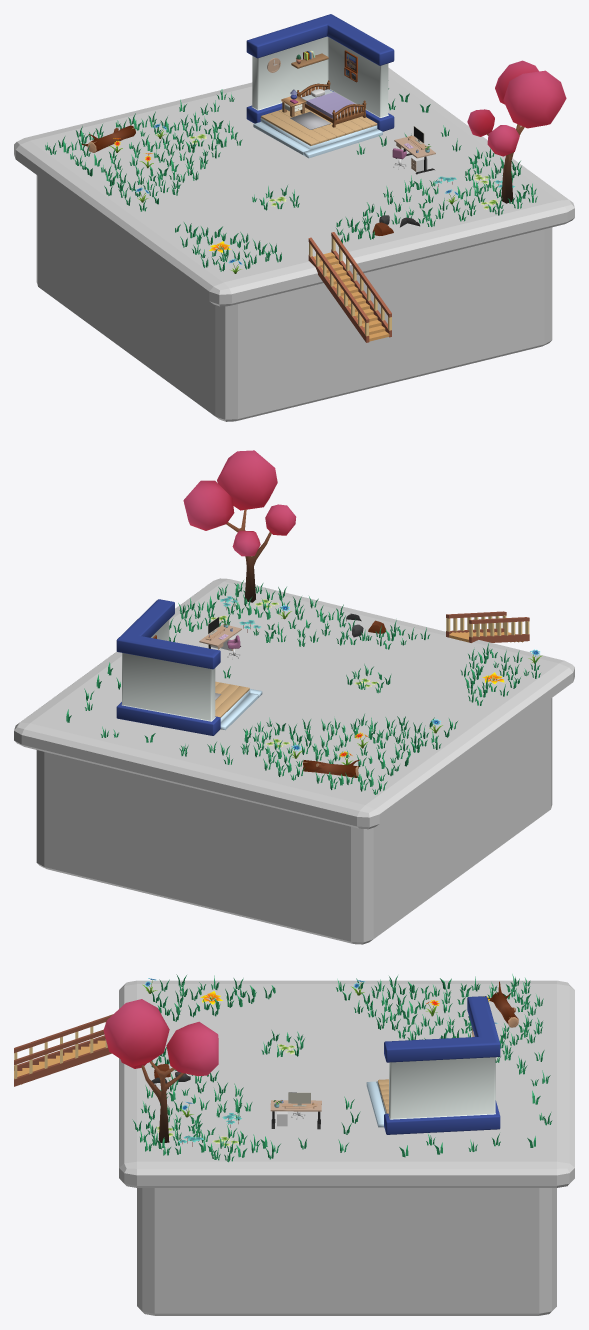
Rendered from about me island.glb.
3 renders of one model, top to bottom at view 1: azimuth 30°, elevation 25°; view 2: azimuth 150°, elevation 25°; view 3: azimuth 270°, elevation 25°, orthographic. The views are drawn at different scales.
Parts seen in each view (by area): view 1: About me island, wall, TreeRC2_GRADIENT_0, wood plank, marche, haut rambarde, bas rambarde, rambarde poteau, blanket, floor.002, Log_GRADIENT_0, floor; view 2: About me island, wall, TreeRC2_GRADIENT_0, rambarde poteau, wood plank, Log_GRADIENT_0; view 3: About me island, wall, TreeRC2_GRADIENT_0, bas rambarde, haut rambarde, marche, Log_GRADIENT_0, rambarde poteau, Desks, floor.002.
Boxes of the visible parts, bbox=[...] form: About me island: bbox=[14, 67, 574, 421]; wall: bbox=[246, 14, 394, 131]; TreeRC2_GRADIENT_0: bbox=[467, 60, 566, 203]; wood plank: bbox=[261, 107, 377, 145]; marche: bbox=[313, 252, 389, 341]; haut rambarde: bbox=[308, 232, 391, 322]; bas rambarde: bbox=[308, 249, 391, 342]; rambarde poteau: bbox=[309, 237, 391, 336]; blanket: bbox=[306, 92, 357, 118]; floor.002: bbox=[303, 129, 382, 158]; Log_GRADIENT_0: bbox=[81, 125, 135, 152]; floor: bbox=[260, 118, 377, 149]; About me island: bbox=[14, 578, 574, 944]; wall: bbox=[116, 599, 220, 735]; TreeRC2_GRADIENT_0: bbox=[183, 450, 296, 602]; rambarde poteau: bbox=[446, 615, 529, 637]; wood plank: bbox=[215, 681, 249, 717]; Log_GRADIENT_0: bbox=[303, 759, 359, 777]; About me island: bbox=[119, 980, 574, 1315]; wall: bbox=[384, 996, 500, 1134]; TreeRC2_GRADIENT_0: bbox=[103, 999, 218, 1142]; bas rambarde: bbox=[14, 1035, 111, 1086]; haut rambarde: bbox=[14, 1014, 113, 1065]; marche: bbox=[14, 1040, 105, 1084]; Log_GRADIENT_0: bbox=[487, 981, 518, 1027]; rambarde poteau: bbox=[14, 1022, 107, 1079]; Desks: bbox=[270, 1100, 321, 1129]; floor.002: bbox=[366, 1081, 385, 1127].
Bounding box in the file's own units: 54.56 × 40.03 × 67.13.
Materials: 52 (4 with a texture image).
